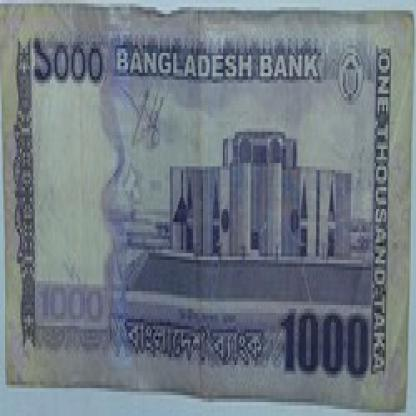One Thousand taka: (282, 305, 370, 385), (30, 35, 105, 90), (38, 281, 106, 329)
